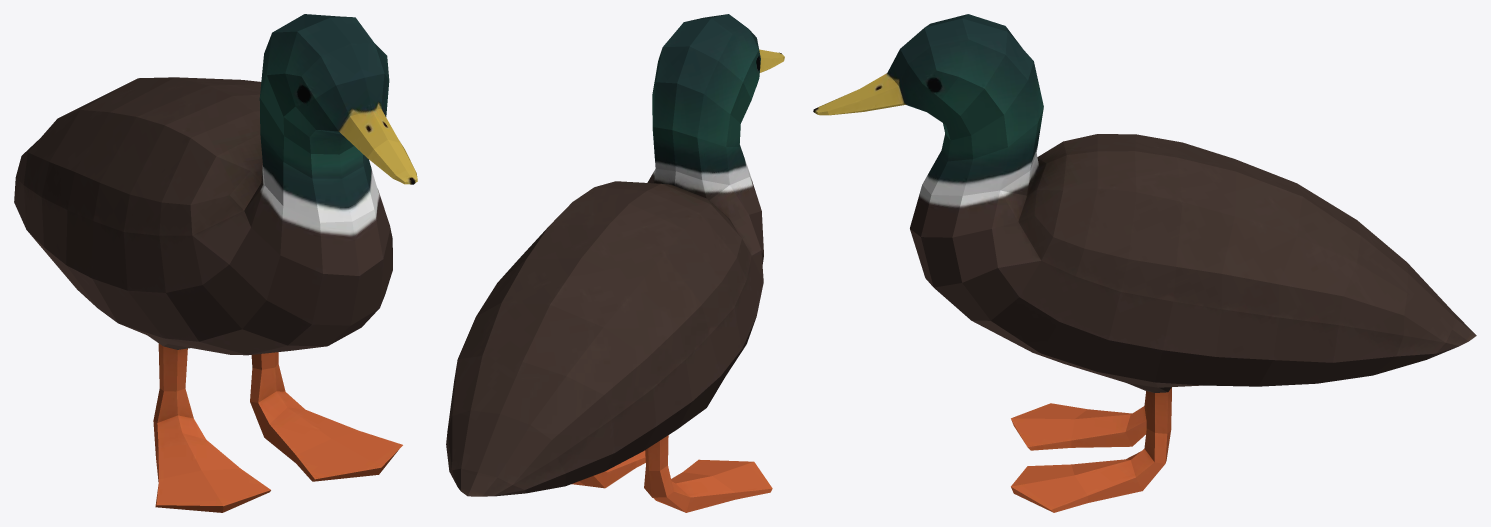
Rendered from mallard.glb.
3 views of the same model, side by side, from view 1: azimuth 30°, elevation 25°; view 2: azimuth 150°, elevation 25°; view 3: azimuth 270°, elevation 25° (orthographic). The views are drawn at different scales.
Parts seen in each view (by area): view 1: MallardDuck_Mesh; view 2: MallardDuck_Mesh; view 3: MallardDuck_Mesh.
Part boxes in pixels (left/top/right/bottom): MallardDuck_Mesh: left=14, top=14, right=417, bottom=512; MallardDuck_Mesh: left=446, top=14, right=784, bottom=512; MallardDuck_Mesh: left=813, top=14, right=1476, bottom=512.
Bounding box in the file's own units: 0.9816 × 1.87 × 2.55.
Materials: 1 (1 with a texture image).
